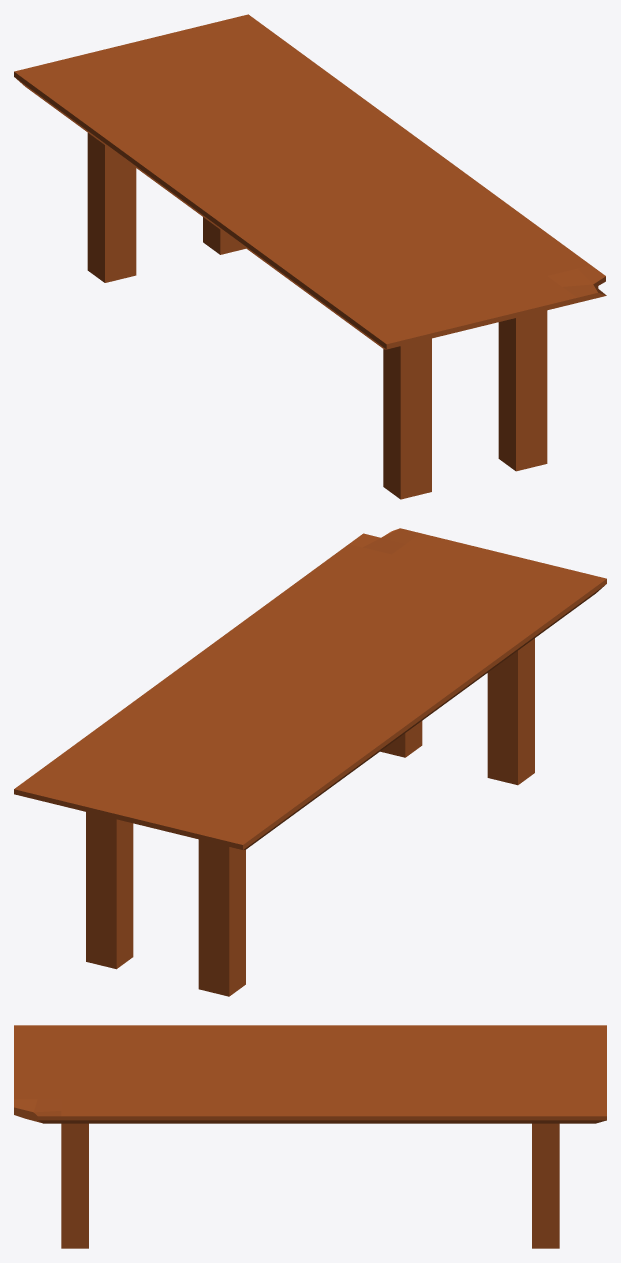
The model's file is SquareTable.glb.
The picture shows the model from 3 angles, top to bottom: view 1: azimuth 30°, elevation 25°; view 2: azimuth 150°, elevation 25°; view 3: azimuth 270°, elevation 25°; orthographic projection. The views are drawn at different scales.
Visible parts, largest first — view 1: SquareTable; view 2: SquareTable; view 3: SquareTable.
Part boxes in pixels (x1,y1,x2,y2): SquareTable: [14, 14, 606, 499]; SquareTable: [14, 528, 606, 996]; SquareTable: [14, 1025, 606, 1248].
Size of the model in its own units: 3.47 by 2.66 by 9.55.
